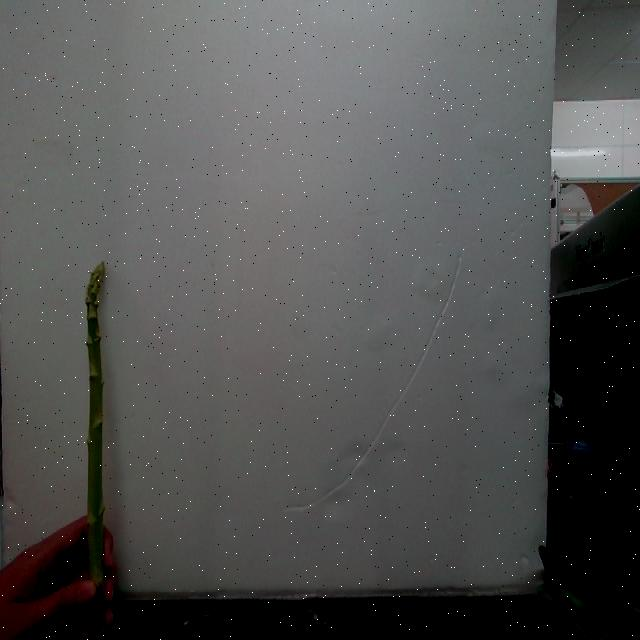aspargus: (86, 265, 108, 640)
